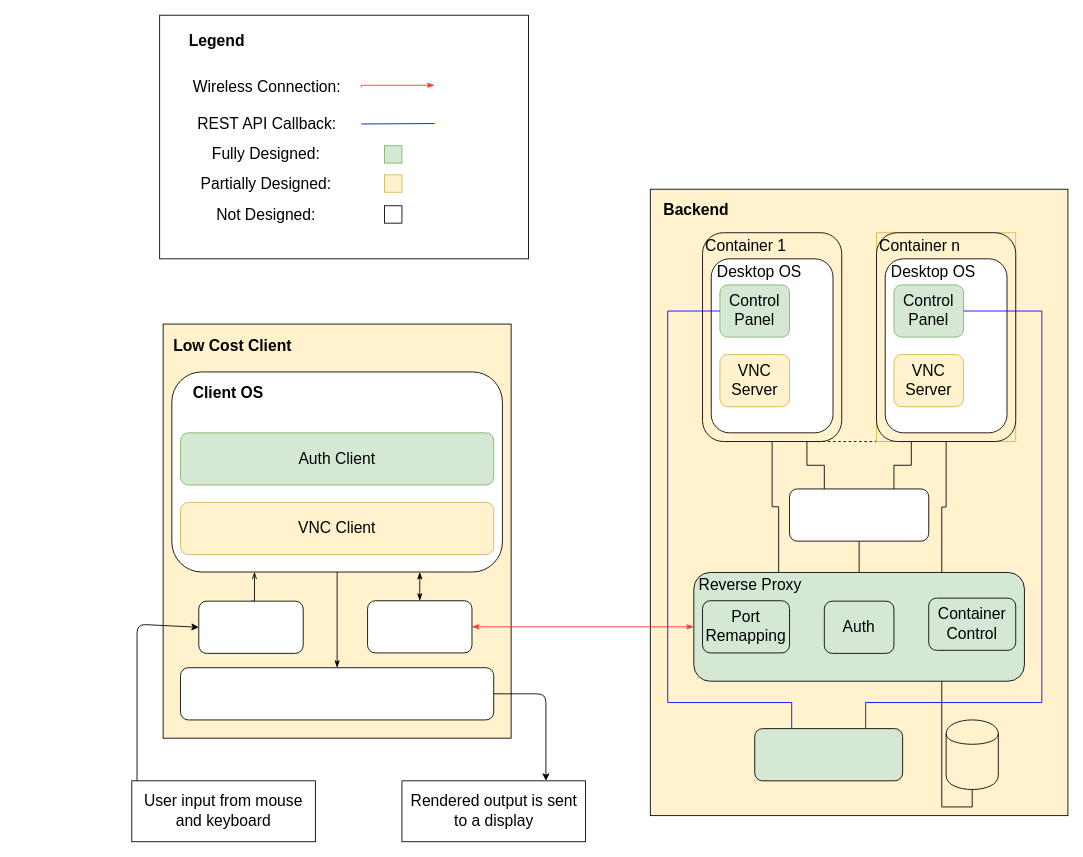
Image size: 1083x857. Some labels were removed from this diagram. The shapes that lost their labels are listed below. From the top down, each one's centre as x and y in pixels, then its label:
(859,514): Docker
(250,626): User Input
(419,626): WiFi
(337,693): Rendered Output
(828,754): UWSGI Server
(971,754): DB
